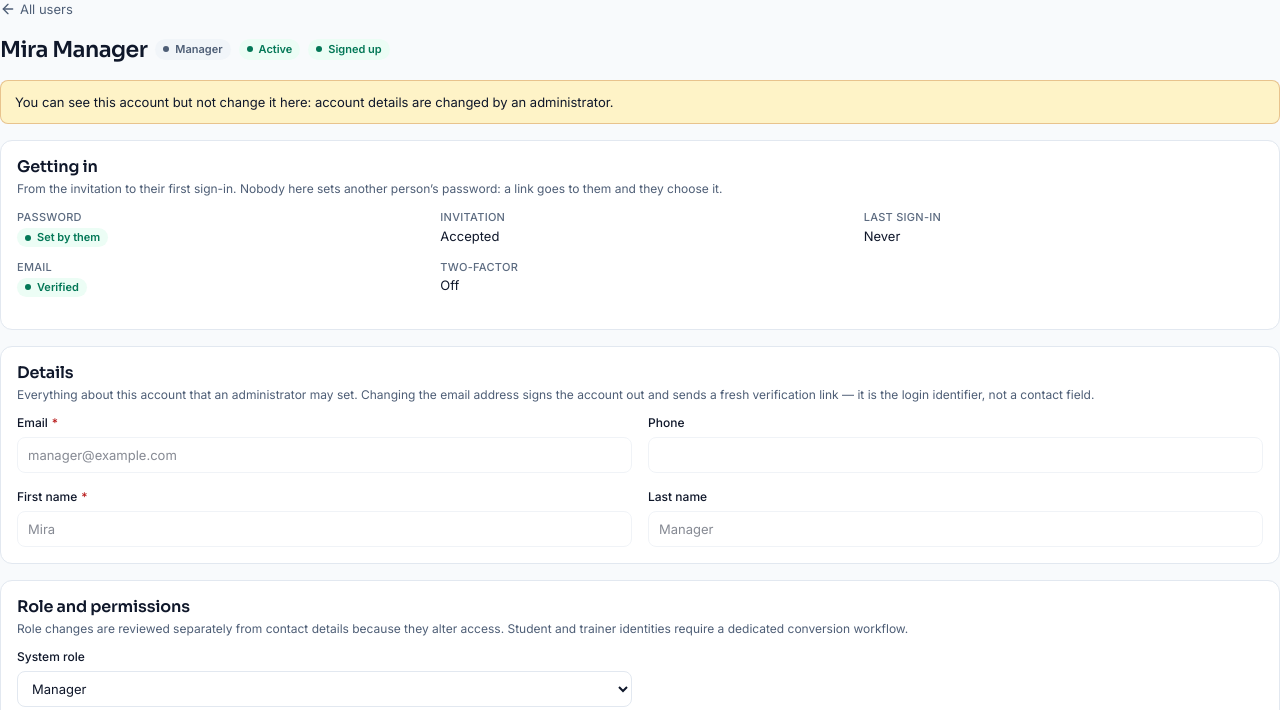
Scenario: administrator role transition › asks the administrator to confirm it is them, then retries the same change
This screenshot has width=1280, height=710.
Expected: the heading "Role and permissions" is shown, [17,596,190,617]
Select "Counsellor" in the dropdown labelled "System role" at (324, 689), box [17,671,632,707]
(page scrolled)
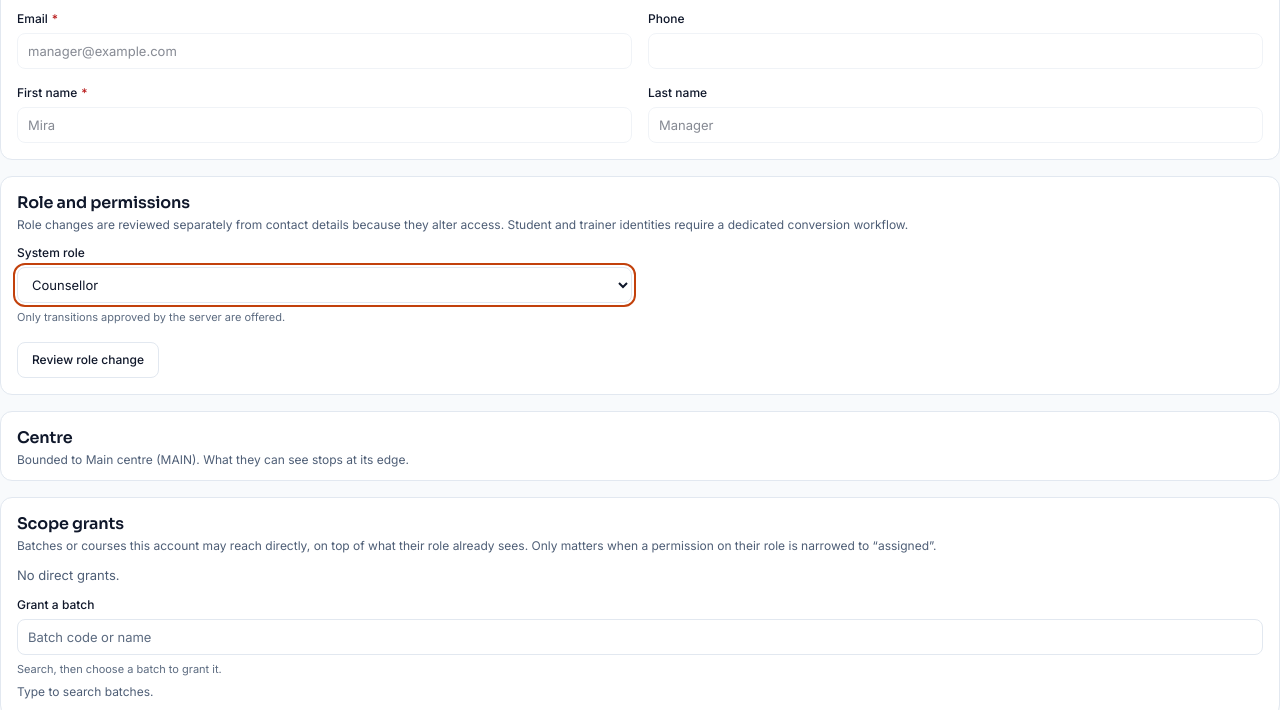
Click the button "Review role change" at (88, 360), box [17,342,159,378]
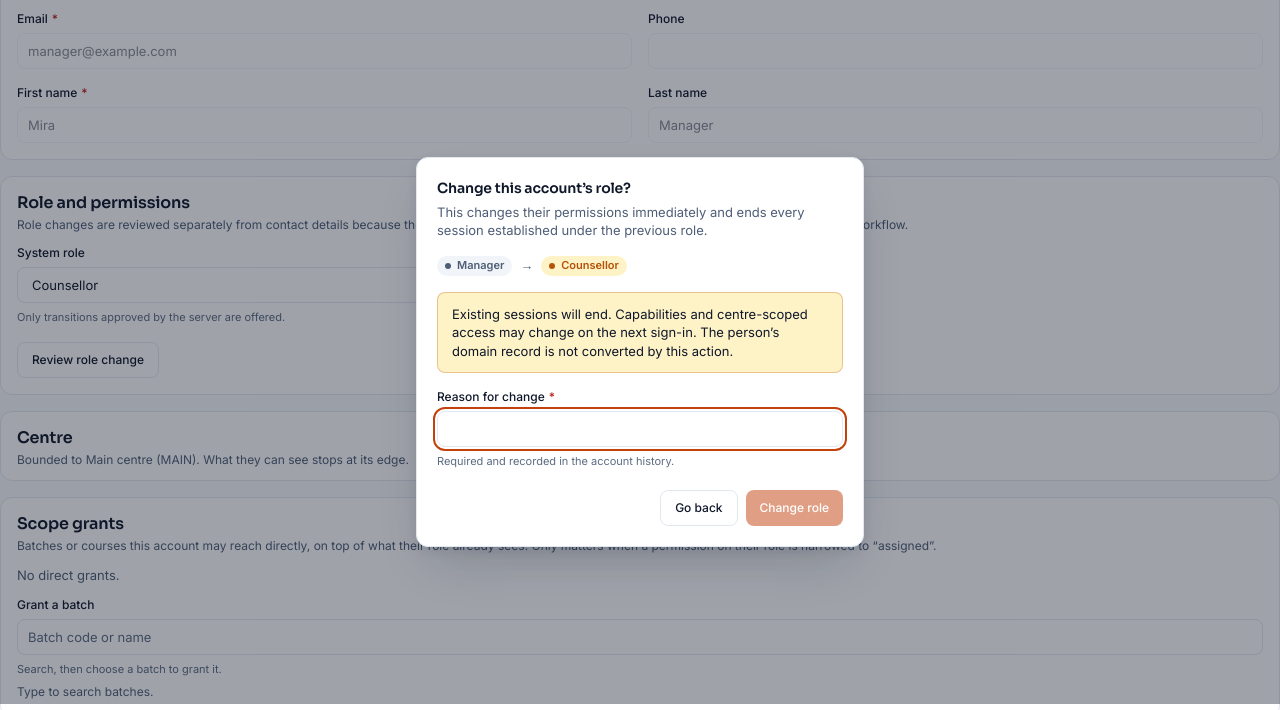
Type "Moved to admissions." into the field labelled "Reason for change*" at (640, 429), box [437,411,843,447]
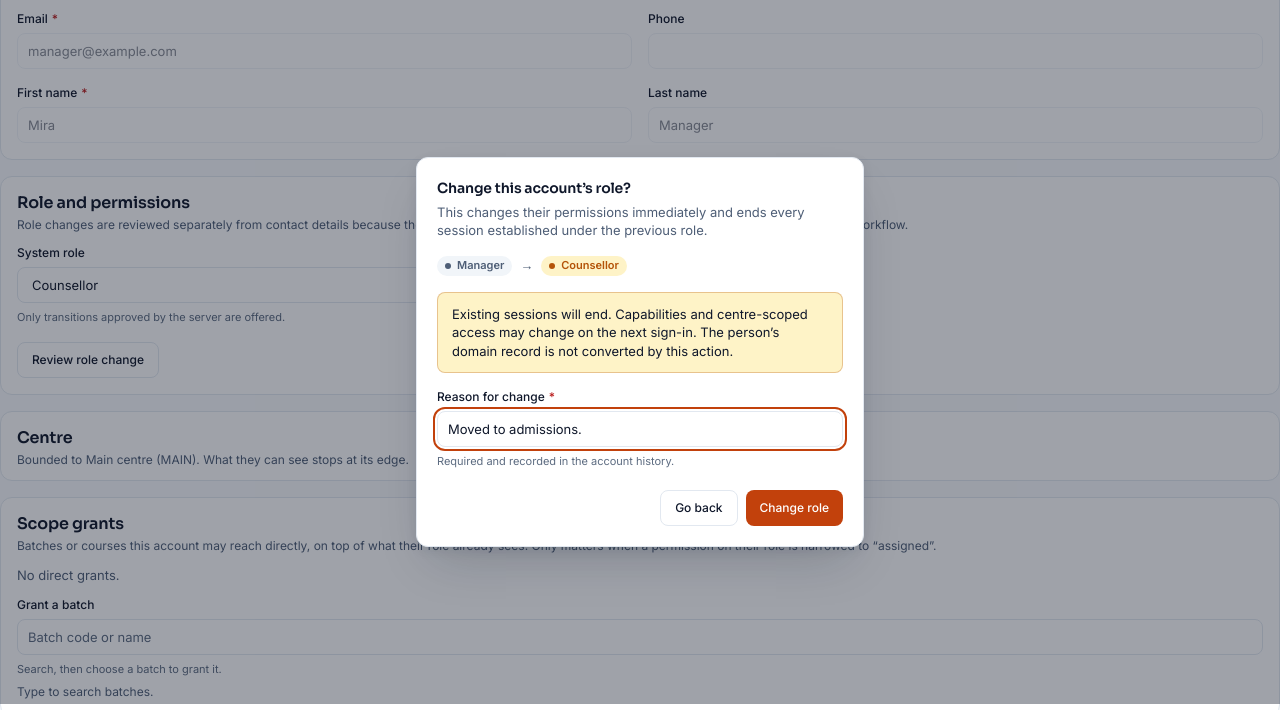
Click the button "Change role" at (794, 508), box [746,490,843,526]
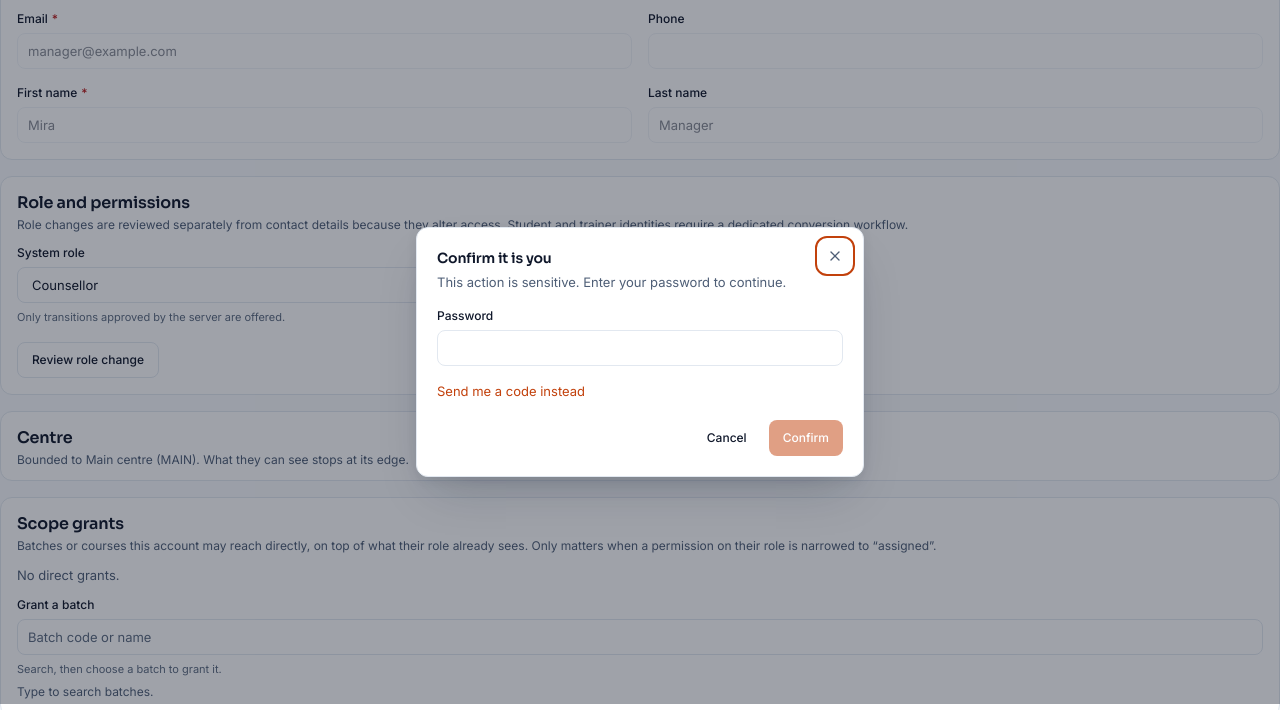
Expected: the dialog "Confirm it is you" is shown, [416,227,864,477]
Type "secret-pass" into the password field labelled "Password" at (640, 348), box [437,330,843,366]
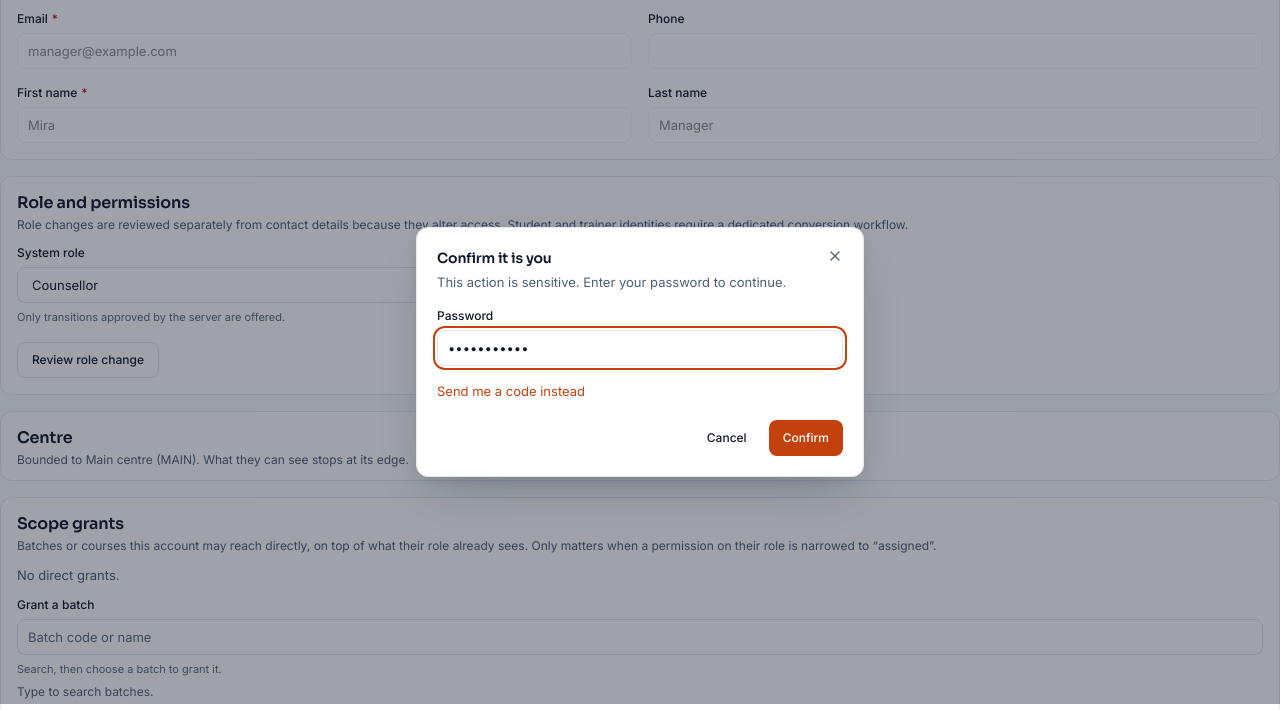
Click the button "Confirm" at (806, 438), box [769,420,843,456]
(page scrolled)
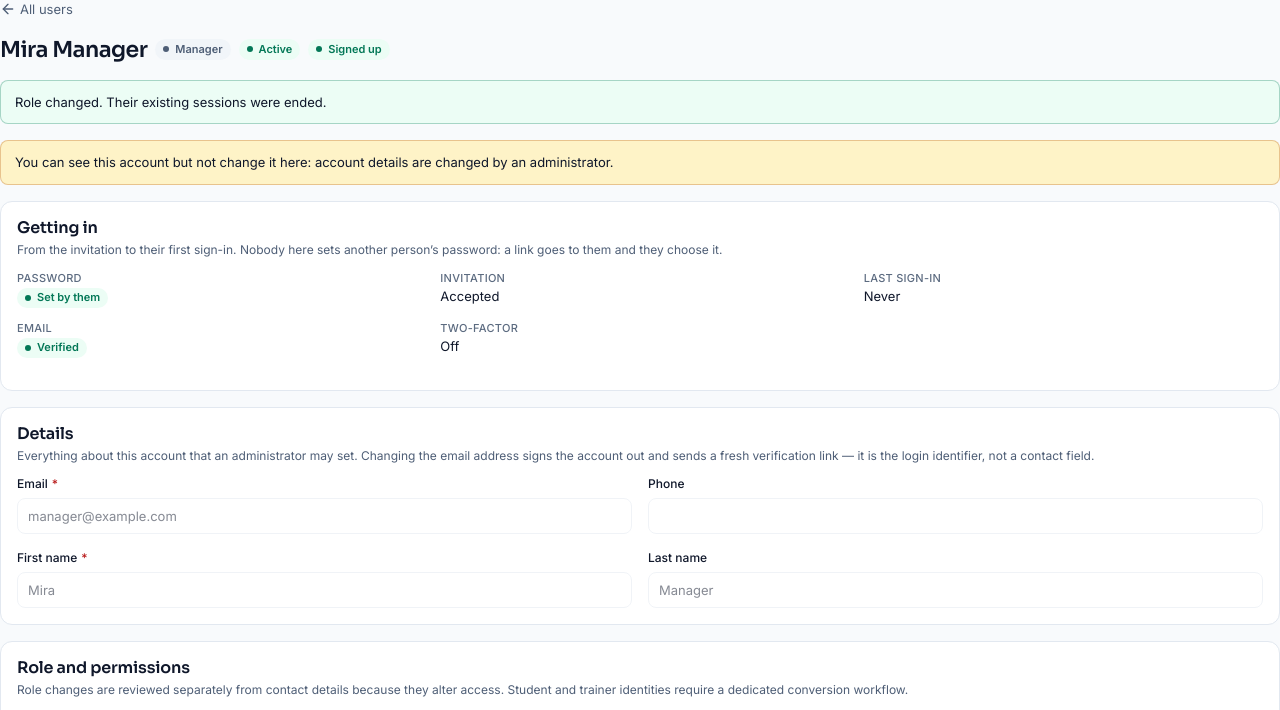
Expected: the message "Role changed. Their existing sessions were ended." is shown, [0,80,1279,124]
